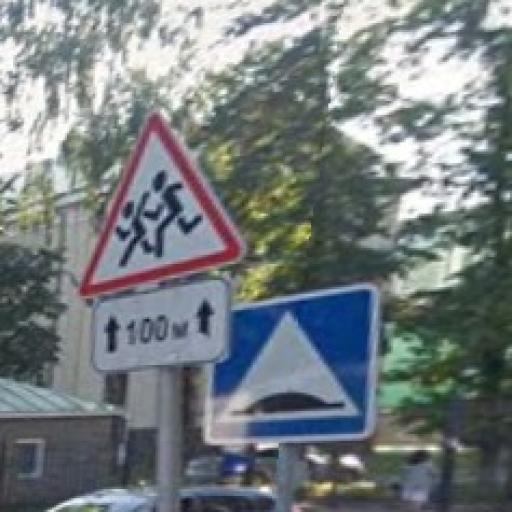traffic_sign: (81, 113, 247, 302), (204, 281, 386, 453)
